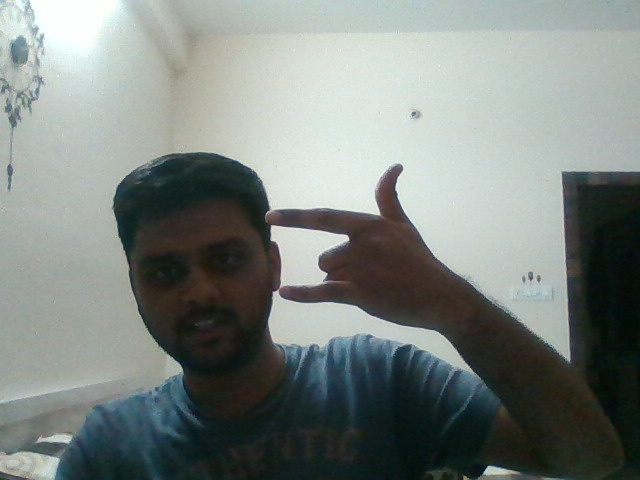haila: (258, 165, 469, 340)
